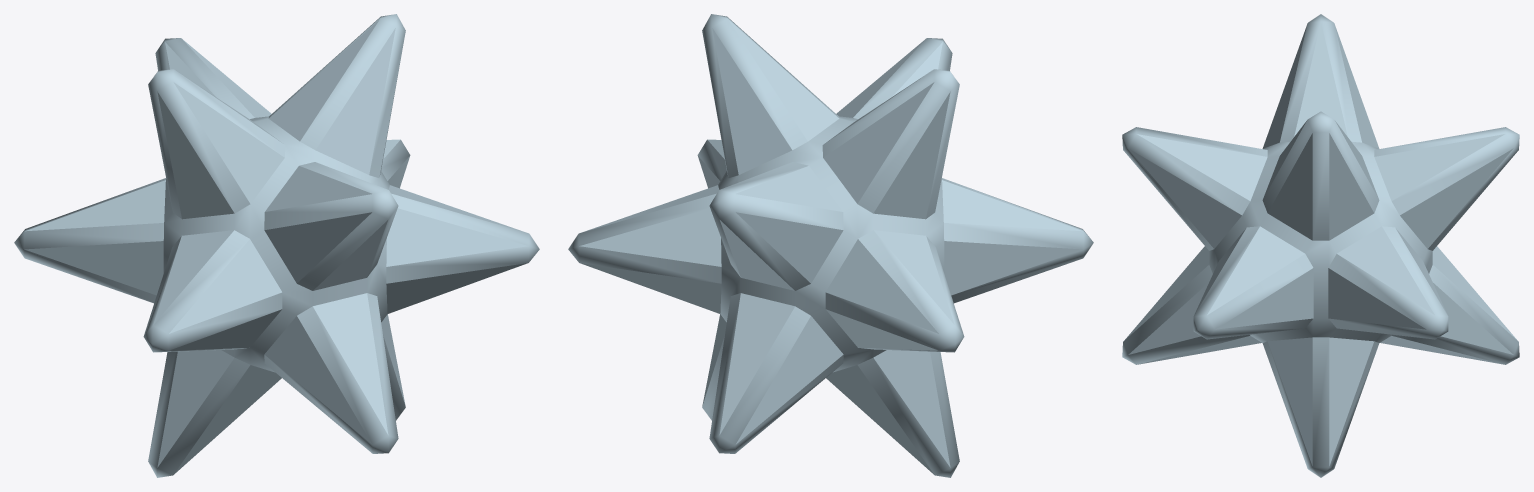
The model's file is bonusStar_fbx.fbx.
3 views of the same model, side by side, from view 1: azimuth 30°, elevation 25°; view 2: azimuth 150°, elevation 25°; view 3: azimuth 270°, elevation 25° (orthographic). The views are drawn at different scales.
Parts seen in each view (by area): view 1: pSolid1; view 2: pSolid1; view 3: pSolid1.
Boxes of the visible parts, x1,y1,x2,y2 form: pSolid1: (14,14,539,477); pSolid1: (568,14,1093,477); pSolid1: (1122,14,1519,477).
Bounding box in the file's own units: 3.53 × 3.53 × 3.53.
